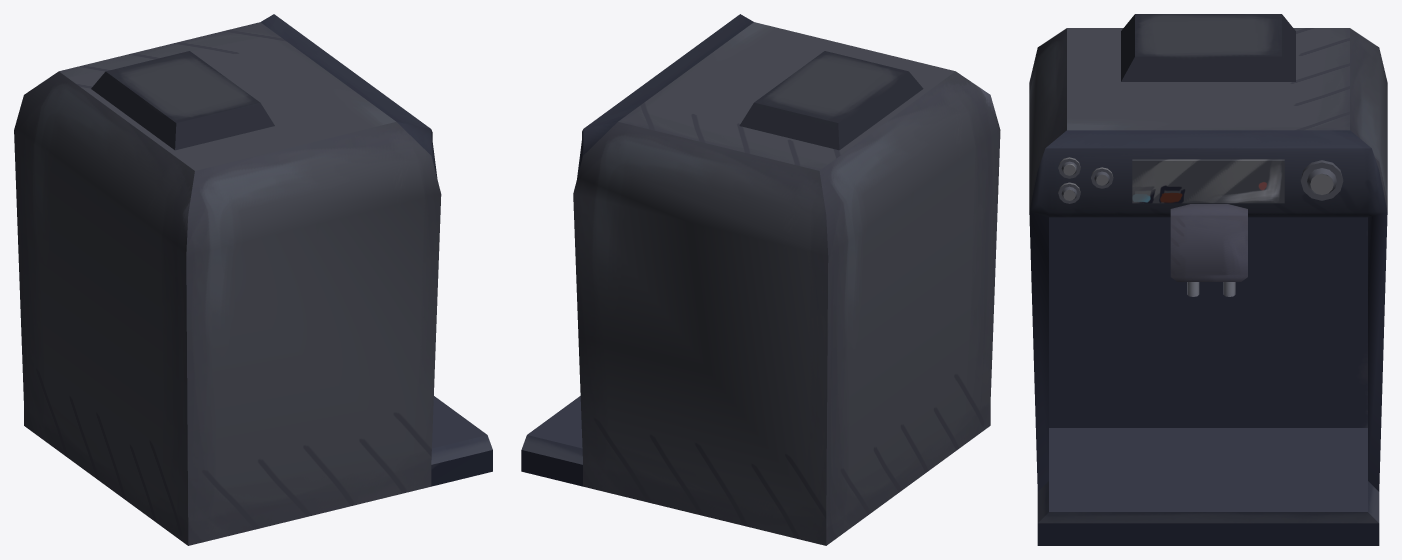
Rendered from Coffee machine fixed.fbx.
3 renders of one model, left to right at view 1: azimuth 30°, elevation 25°; view 2: azimuth 150°, elevation 25°; view 3: azimuth 270°, elevation 25°, orthographic. The views are drawn at different scales.
Visible parts, largest first — view 1: Fixed coffee machine; view 2: Fixed coffee machine; view 3: Fixed coffee machine.
Boxes of the visible parts, x1=… form: Fixed coffee machine: x1=14, y1=14, x2=492, y2=545; Fixed coffee machine: x1=521, y1=14, x2=1000, y2=545; Fixed coffee machine: x1=1029, y1=14, x2=1387, y2=545.
Bounding box in the file's own units: 31.87 × 37.25 × 30.61.
